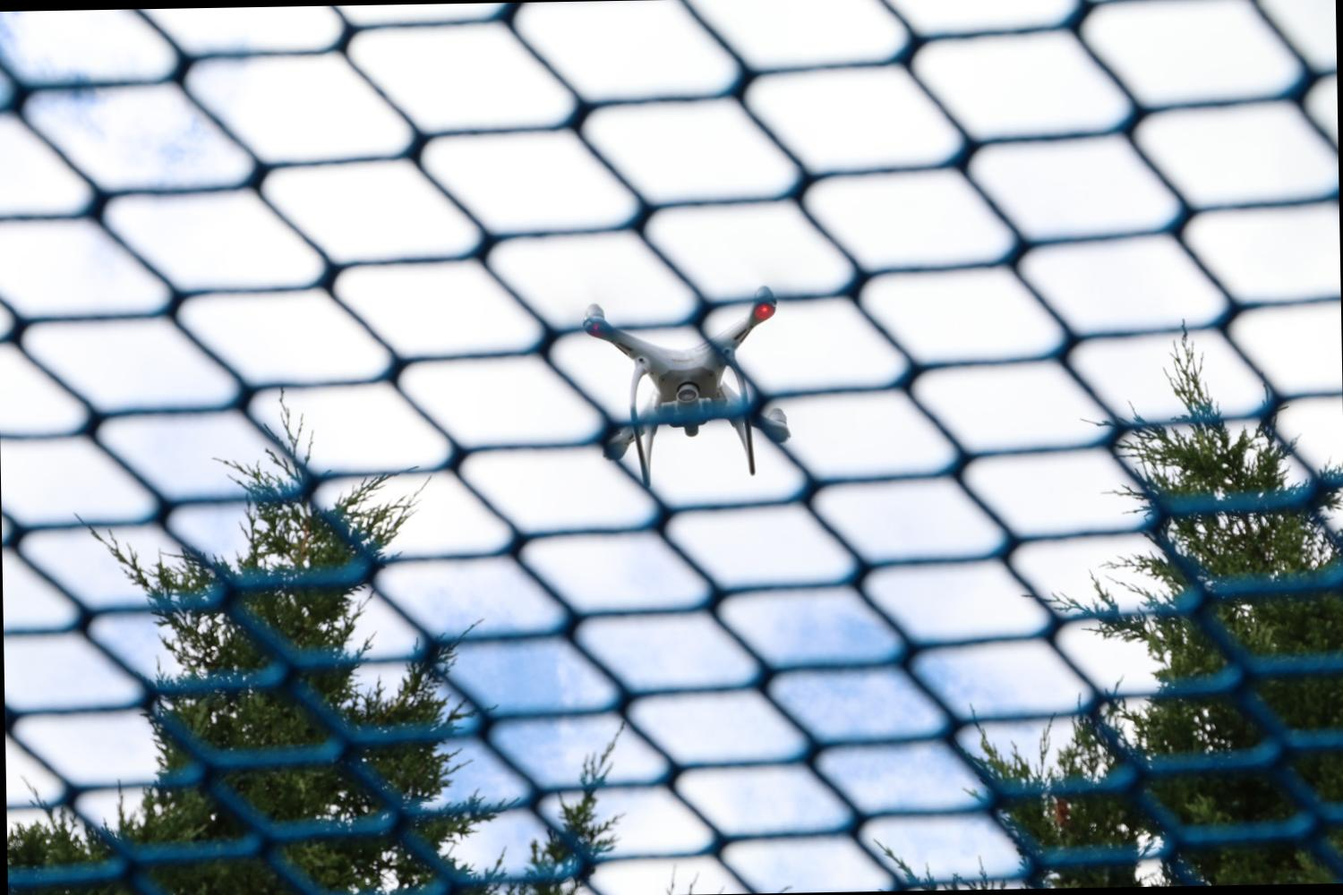drone: (543, 273, 830, 470)
